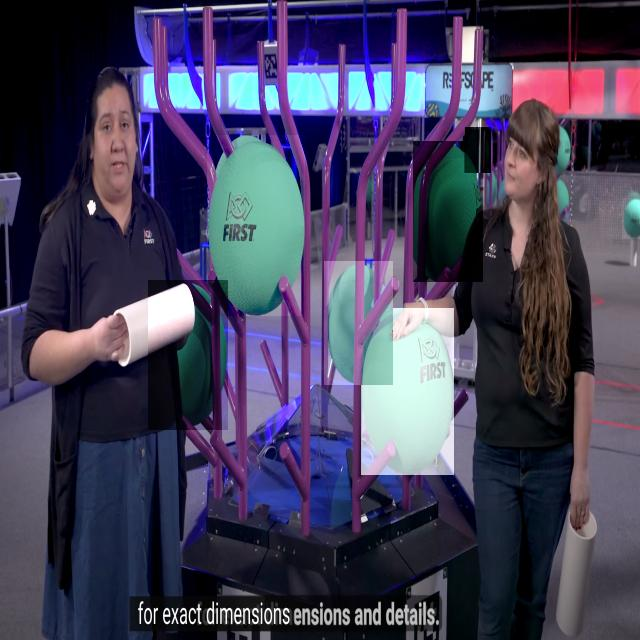Algae: (207, 135, 305, 316), (361, 308, 454, 475), (148, 280, 228, 430), (414, 141, 484, 282), (324, 261, 393, 385), (465, 127, 491, 173), (622, 198, 640, 239)
